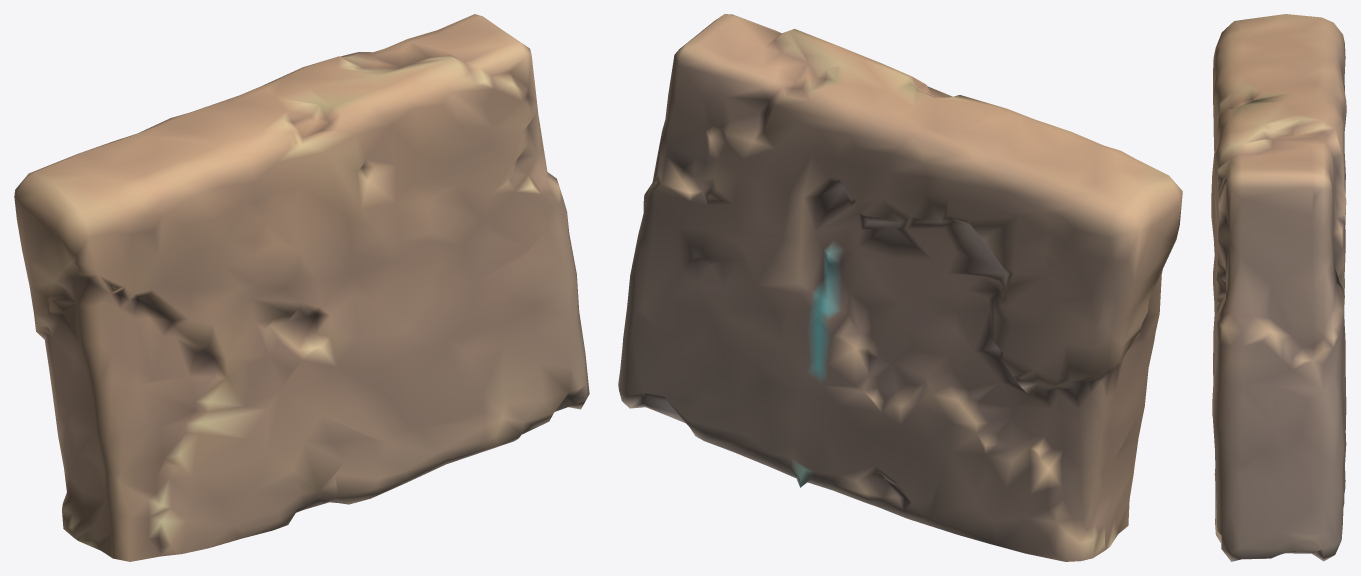
File: env_fr_slab.glb
3 renders of one model, left to right at view 1: azimuth 30°, elevation 25°; view 2: azimuth 150°, elevation 25°; view 3: azimuth 270°, elevation 25°, orthographic. The views are drawn at different scales.
Parts seen in each view (by area): view 1: geometry_0; view 2: geometry_0; view 3: geometry_0.
Part boxes in pixels (box(x1,y1,x2,y2)): geometry_0: box(14, 14, 589, 561); geometry_0: box(618, 14, 1182, 561); geometry_0: box(1211, 14, 1346, 561).
Size of the model in its own units: 4.01 by 3.03 by 0.9229.
